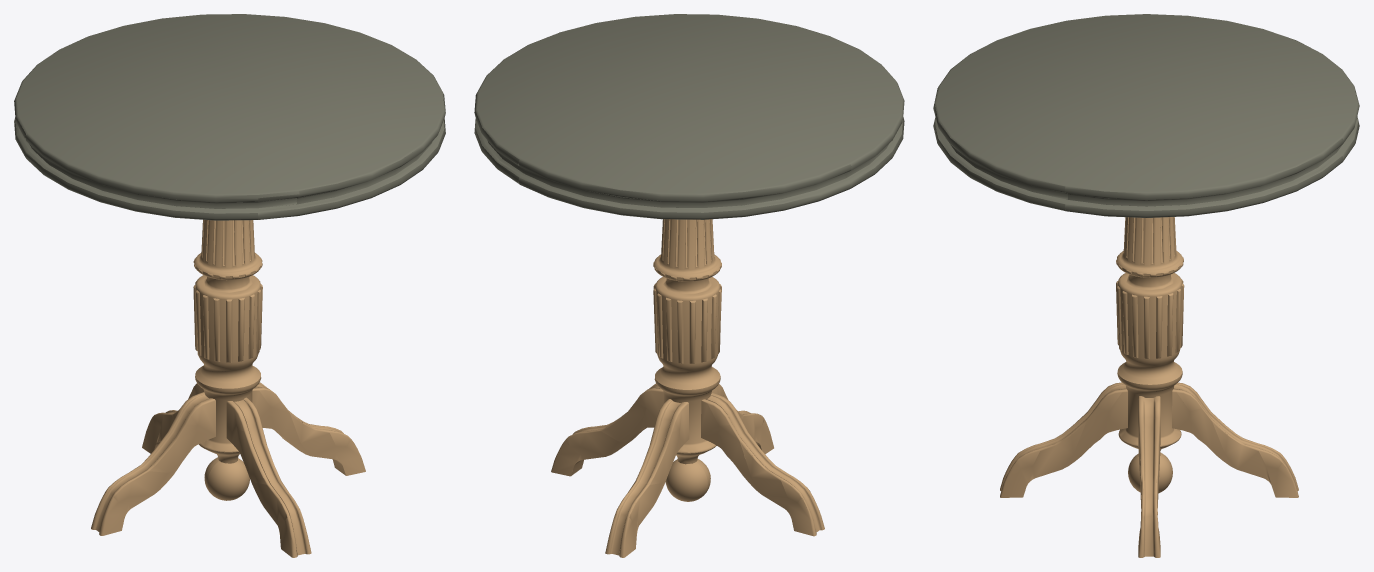
File: table-13.glb
3 views of the same model, side by side, from view 1: azimuth 30°, elevation 25°; view 2: azimuth 150°, elevation 25°; view 3: azimuth 270°, elevation 25° (orthographic).
Parts seen in each view (by area): view 1: Cube.035_Cube.019_0; view 2: Cube.035_Cube.019_0; view 3: Cube.035_Cube.019_0.
Boxes of the visible parts, x1,y1,x2,y2 form: Cube.035_Cube.019_0: [14, 14, 445, 557]; Cube.035_Cube.019_0: [474, 14, 904, 557]; Cube.035_Cube.019_0: [933, 14, 1359, 557].
Size of the model in its own units: 5.24 by 5.31 by 5.24.
